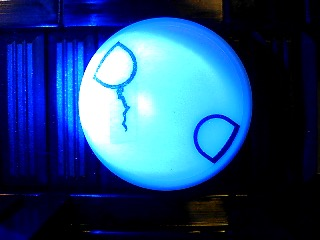CRACK: (78, 16, 253, 191)
